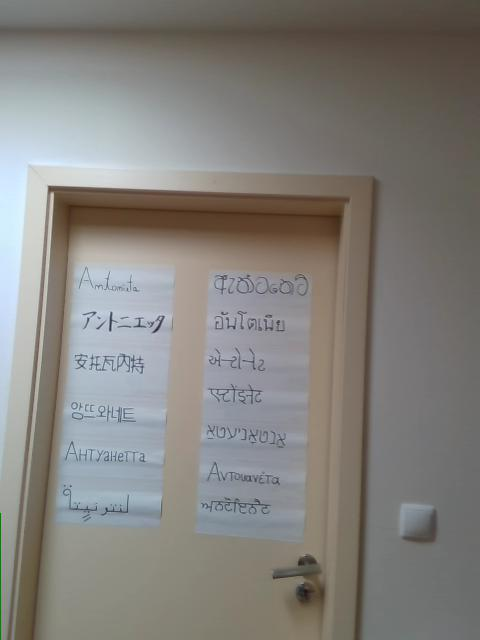door: (34, 202, 340, 640)
